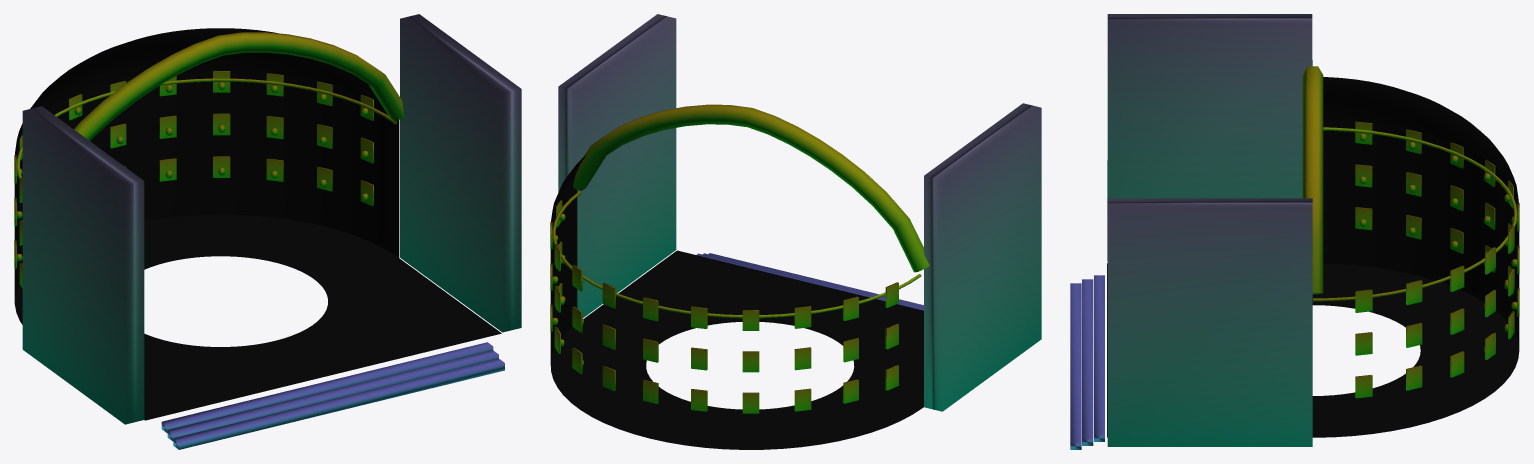
Rendered from lowlight_sanctum.glb.
The picture shows the model from 3 angles, left to right: view 1: azimuth 30°, elevation 25°; view 2: azimuth 150°, elevation 25°; view 3: azimuth 270°, elevation 25°; orthographic projection. The views are drawn at different scales.
Visible parts, largest first — view 1: lowlight_sanctum; view 2: lowlight_sanctum; view 3: lowlight_sanctum.
Boxes of the visible parts, bbox=[...] form: lowlight_sanctum: bbox=[14, 14, 521, 449]; lowlight_sanctum: bbox=[550, 14, 1041, 449]; lowlight_sanctum: bbox=[1070, 14, 1519, 449].
Size of what is drawn, in the model's own units: 15.56 by 10.64 by 15.25.
